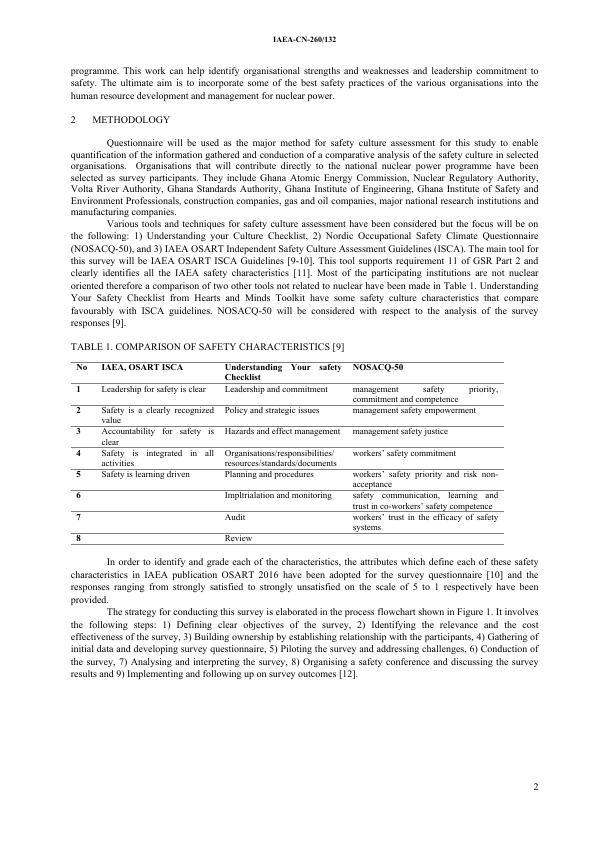table: (71, 359, 511, 548)
text: (69, 135, 542, 333), (68, 553, 544, 687), (65, 63, 544, 106), (69, 340, 349, 354), (66, 112, 175, 126)
